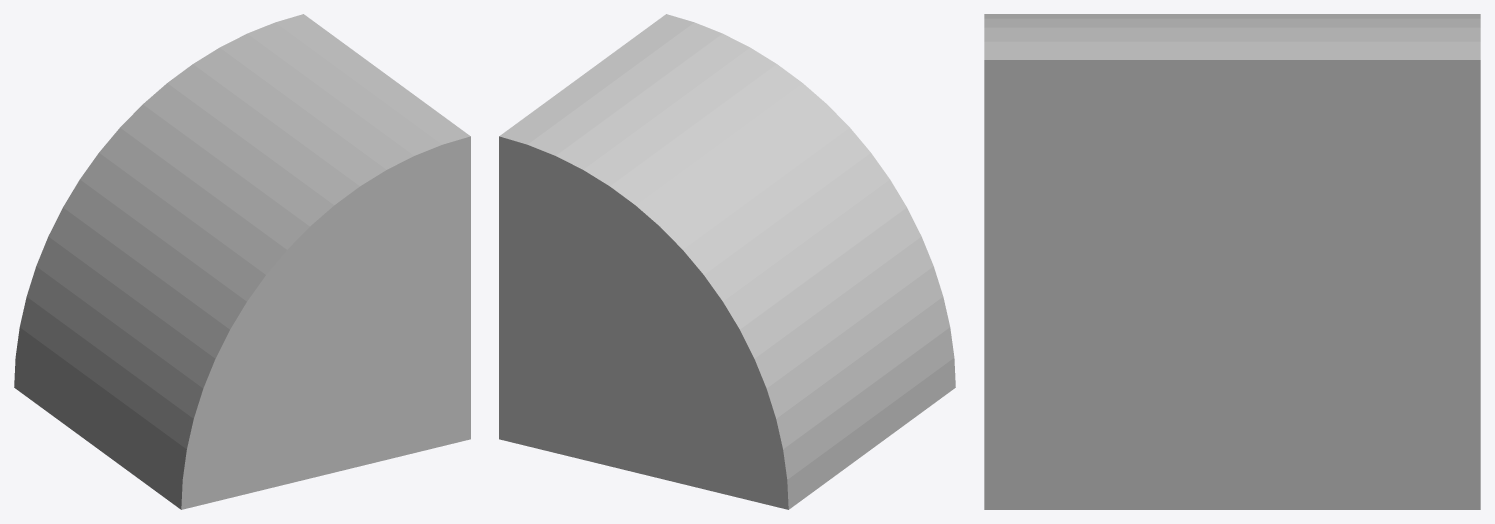
File: CylinderQuarter.fbx
3 renders of one model, left to right at view 1: azimuth 30°, elevation 25°; view 2: azimuth 150°, elevation 25°; view 3: azimuth 270°, elevation 25°, orthographic. The views are drawn at different scales.
Parts seen in each view (by area): view 1: CylinderQuarter; view 2: CylinderQuarter; view 3: CylinderQuarter.
Part boxes in pixels (bbox=[...]): CylinderQuarter: bbox=[14, 14, 470, 509]; CylinderQuarter: bbox=[499, 14, 955, 509]; CylinderQuarter: bbox=[984, 14, 1480, 509].
Size of the model in its own units: 1 by 1 by 1.
